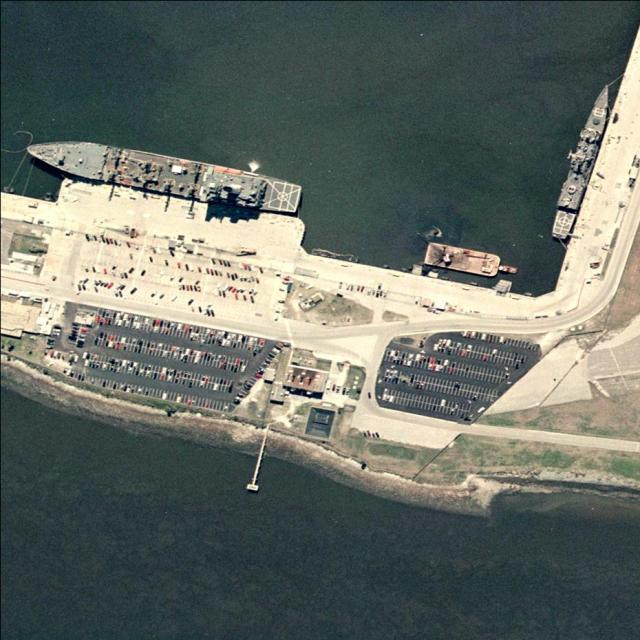Commander: (21, 127, 310, 217)
Frigate: (548, 81, 616, 239)
